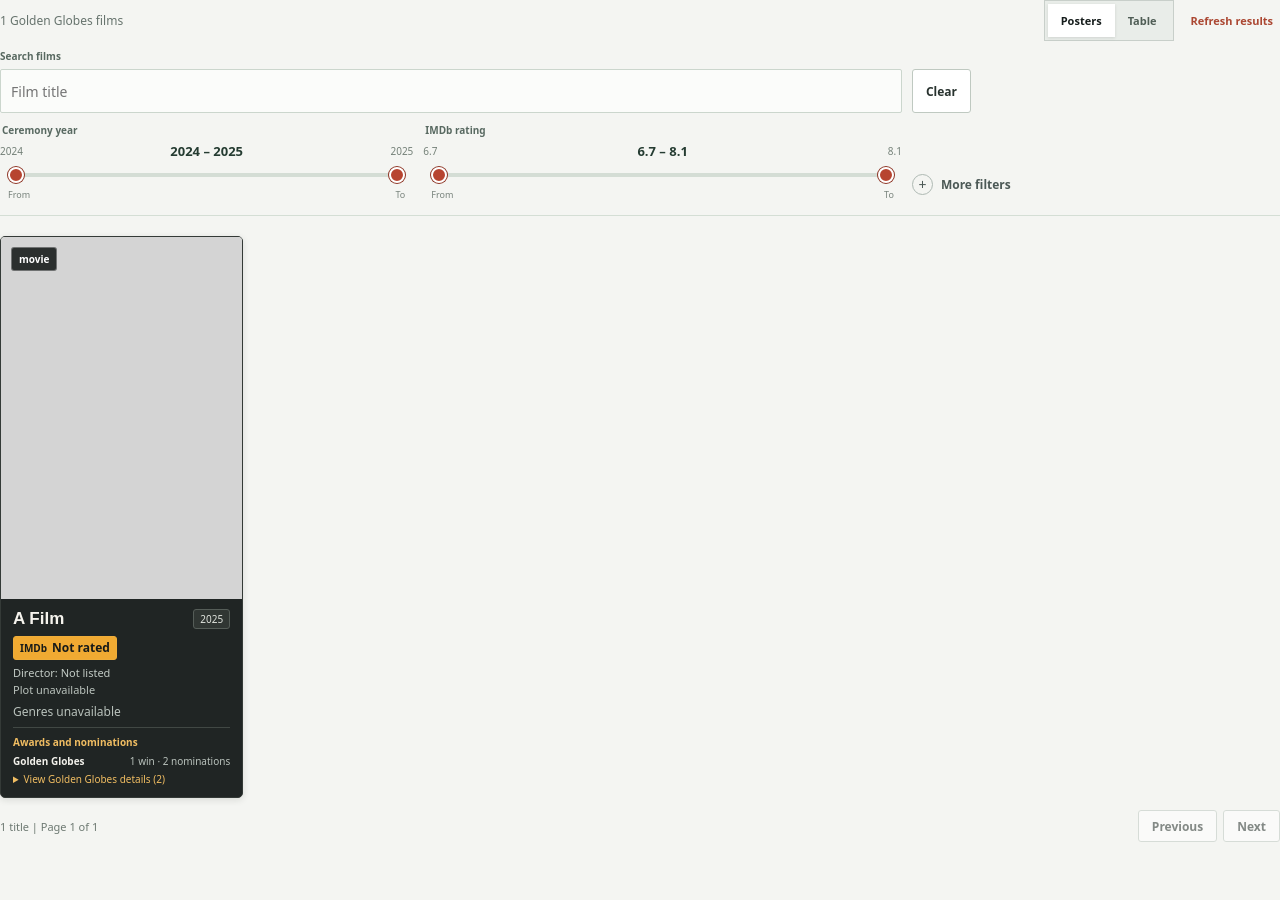
it: GoldenGlobeCatalogView › sets a manual IMDb ID and reports the targeted refresh completion
Click the button with aria-label "View A Film details".
click(122, 418)  # box [1,237,242,599]
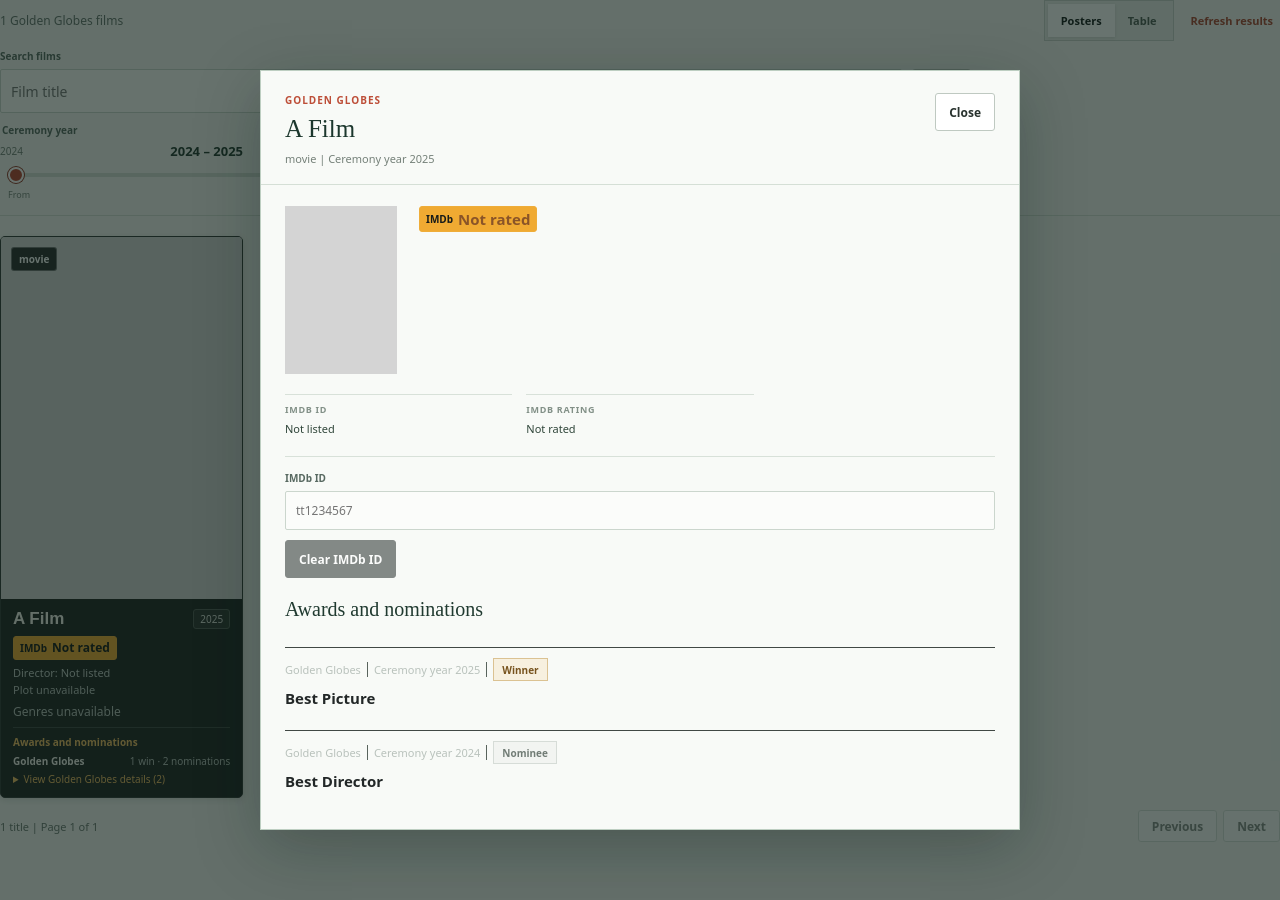
Type "TT12345678" into the field labelled "IMDb ID".
click(640, 510); type("TT12345678")  # box [285,491,995,530]
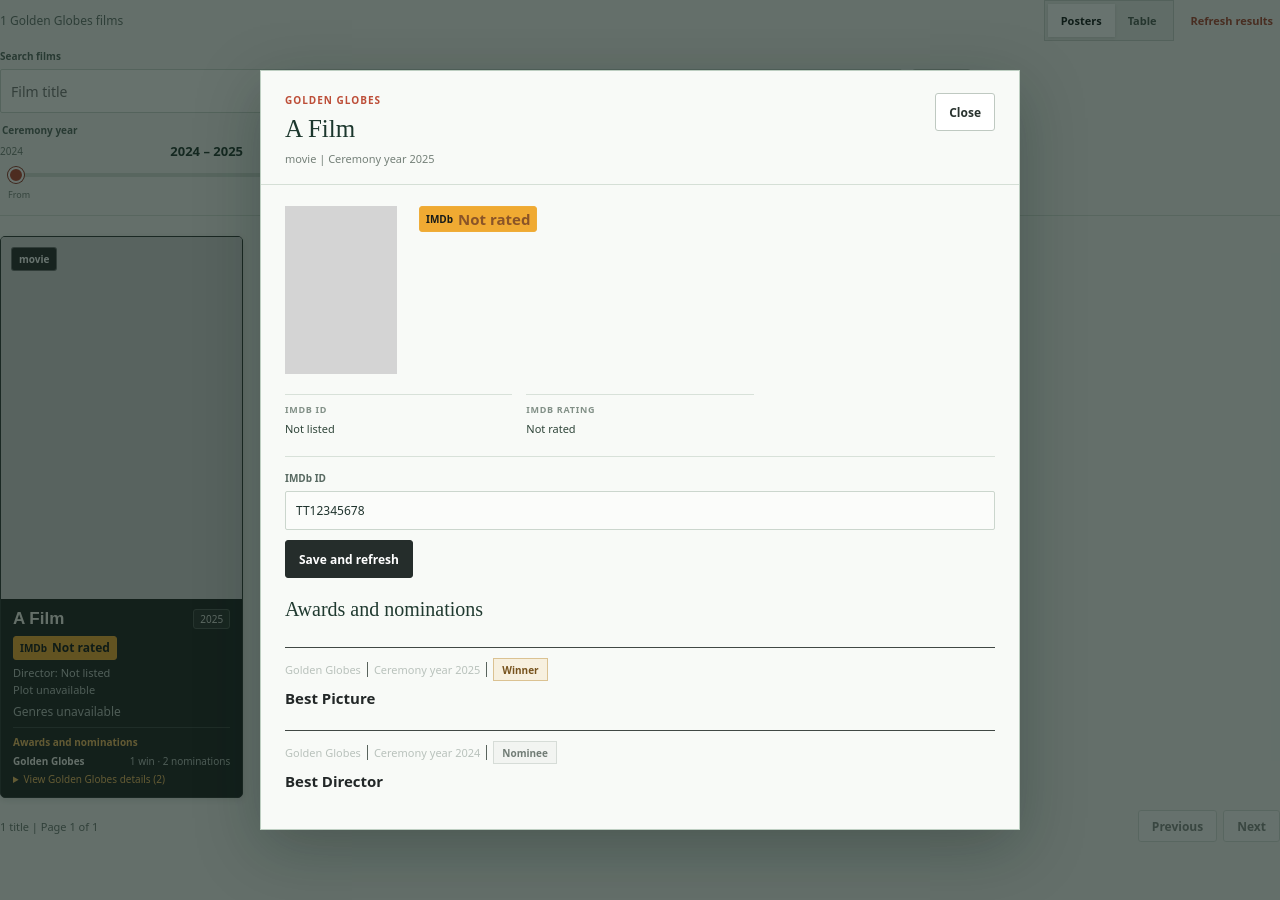
Click the button "Save and refresh".
click(349, 559)  # box [285,540,413,578]
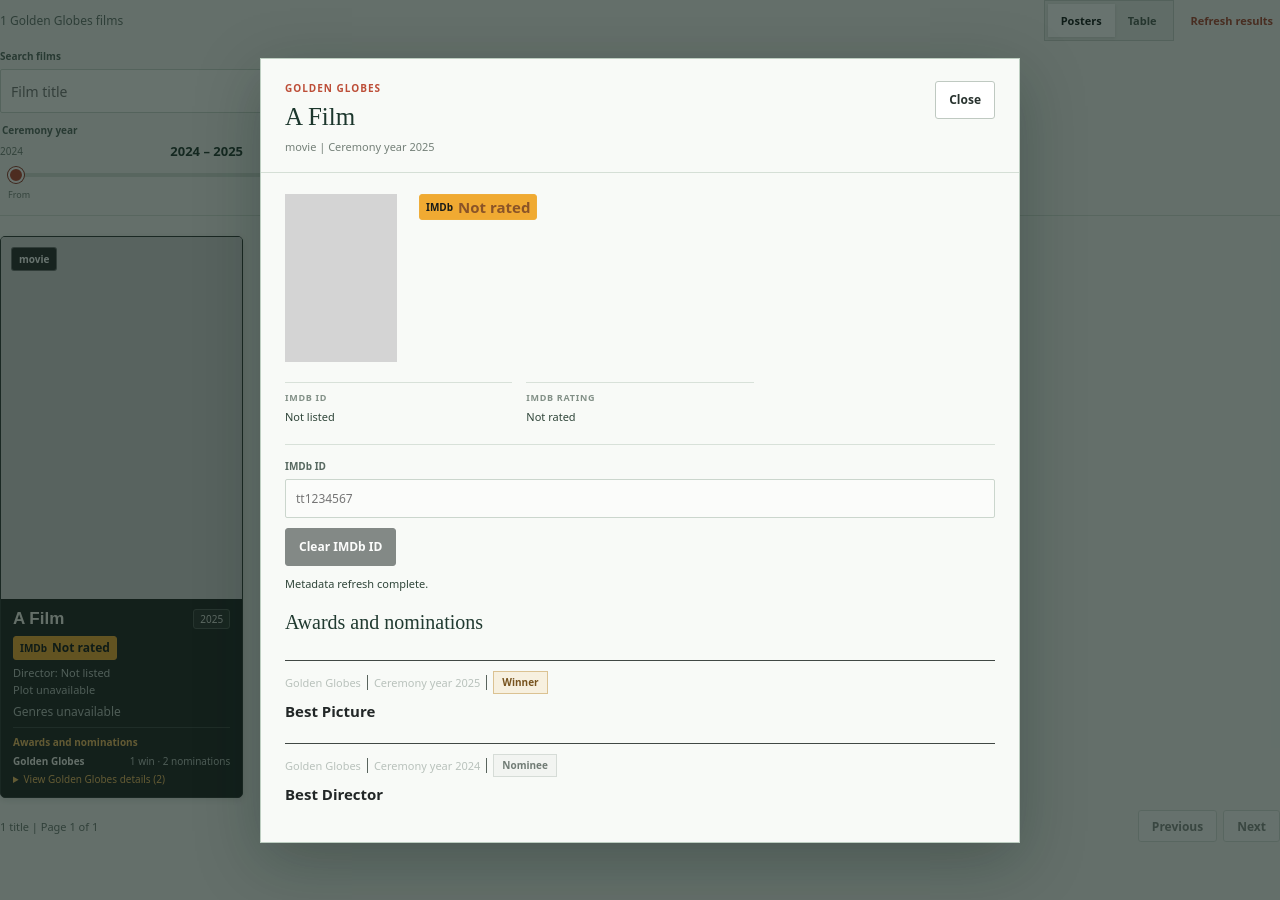
Expected: the text "Metadata refresh complete." is shown, [285,576,428,590]
